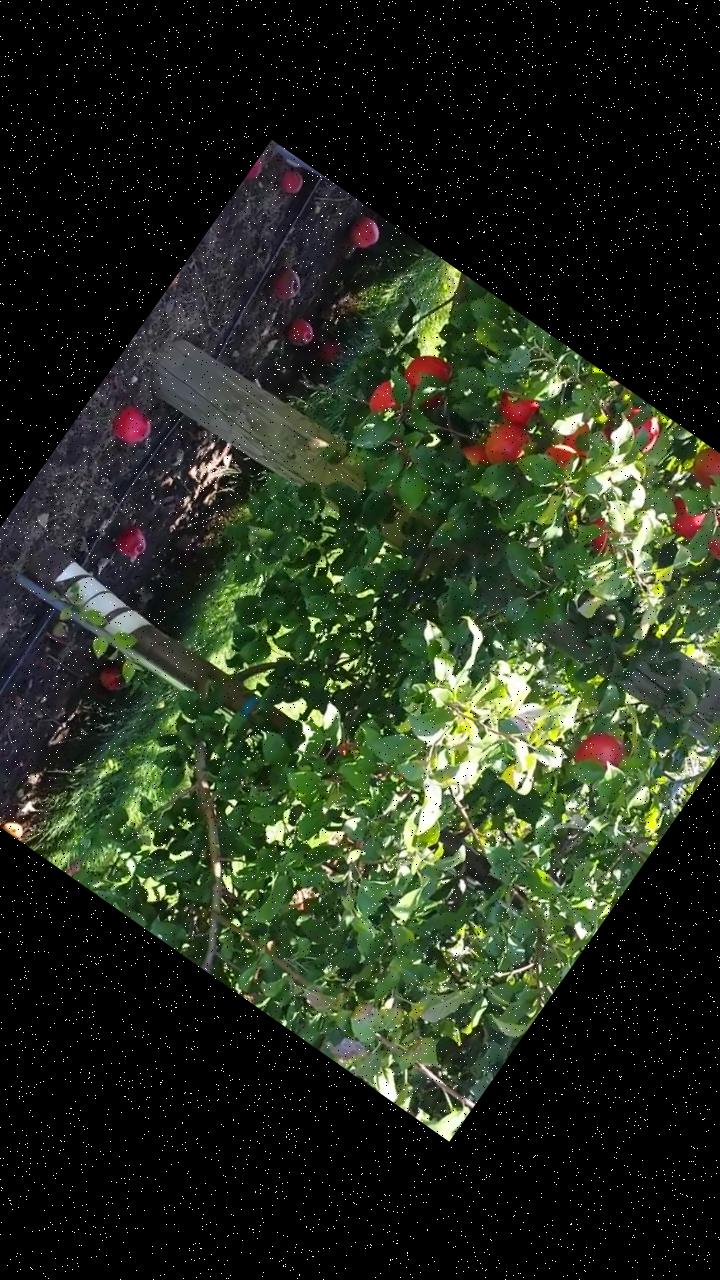Apple: (391, 341, 466, 416), (596, 394, 668, 465), (568, 720, 634, 786), (476, 413, 538, 478), (658, 488, 712, 542), (490, 382, 544, 433), (364, 373, 414, 425), (579, 513, 626, 561), (682, 443, 719, 499), (562, 416, 606, 461), (456, 434, 500, 474), (698, 500, 719, 572), (541, 435, 578, 470)
